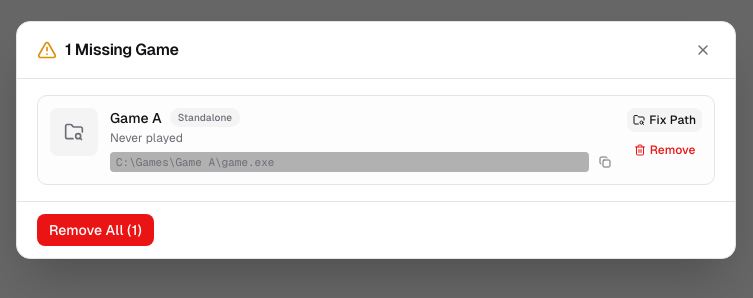
Test: Story 14.2: HealthCheckModal › Cancel in confirmation dialog hides it
Step 1. Click the button with test id "health-check-remove-all" → (95, 230), box [37, 214, 154, 246]
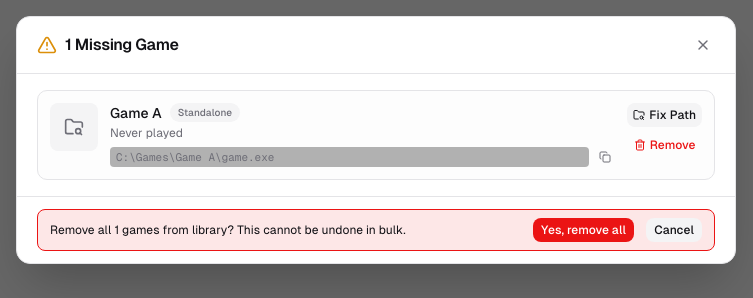
Check: the element with test id "health-check-remove-all-confirm" is shown, box [37, 209, 715, 251]
Step 2. Click the button "Cancel" → (674, 230), box [646, 218, 702, 242]
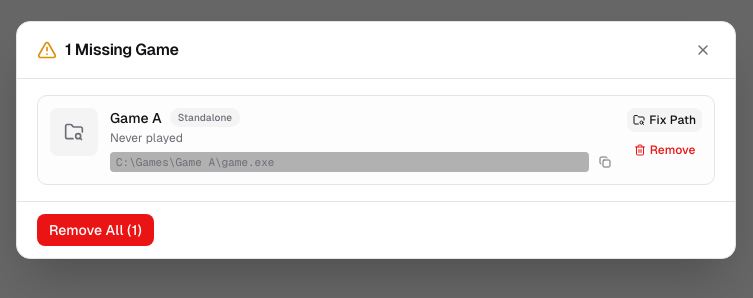
Check: the element with test id "health-check-remove-all-confirm" is gone
